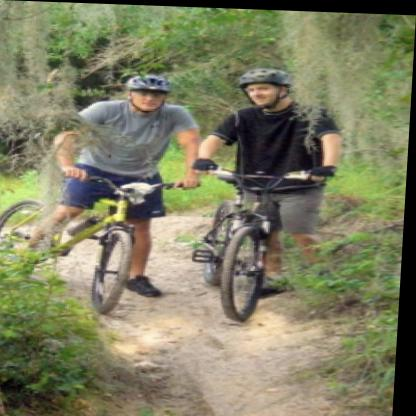With Helmet: (237, 64, 302, 108), (121, 70, 180, 114)
